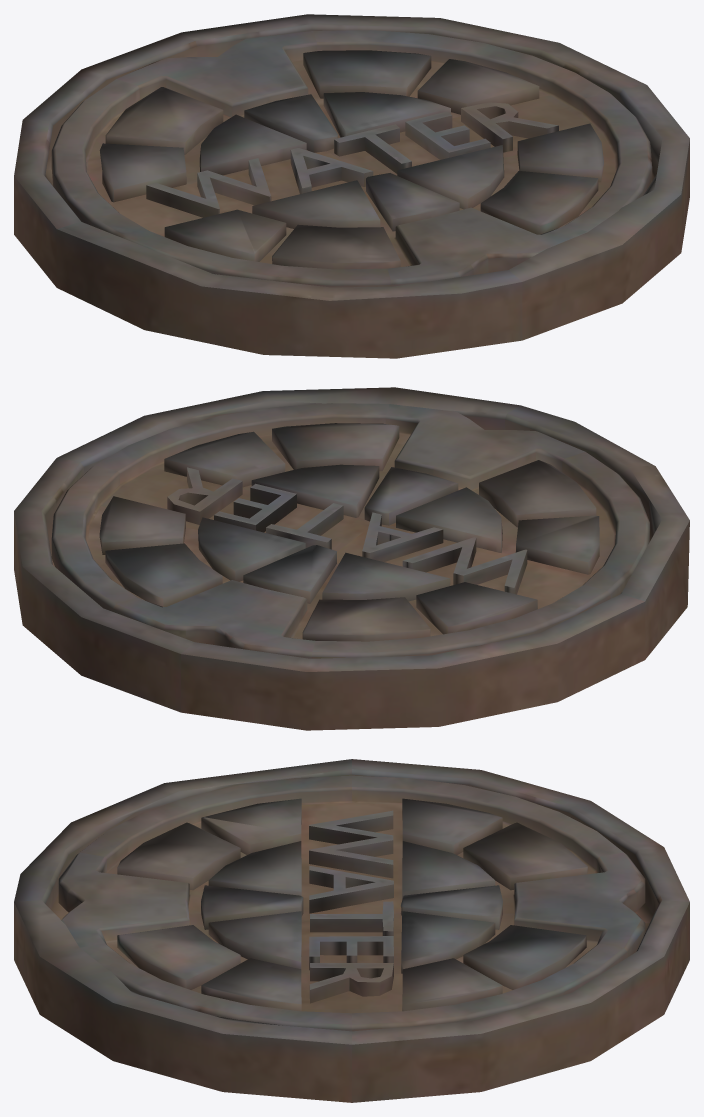
The model's file is water_manhole_cover.glb.
3 renders of one model, top to bottom at view 1: azimuth 30°, elevation 25°; view 2: azimuth 150°, elevation 25°; view 3: azimuth 270°, elevation 25°, orthographic.
Parts seen in each view (by area): view 1: water_manhole_cover, water_manhole_cover_frame; view 2: water_manhole_cover, water_manhole_cover_frame; view 3: water_manhole_cover, water_manhole_cover_frame.
Boxes of the visible parts, box(x1,y1,x2,y2) form: water_manhole_cover: box(51, 30, 652, 287); water_manhole_cover_frame: box(14, 14, 689, 358); water_manhole_cover: box(51, 403, 649, 658); water_manhole_cover_frame: box(14, 387, 689, 730); water_manhole_cover: box(58, 775, 645, 1031); water_manhole_cover_frame: box(14, 759, 689, 1102).
Bounding box in the file's own units: 0.6908 × 0.0676 × 0.6908.
1 material, 1 textured.
